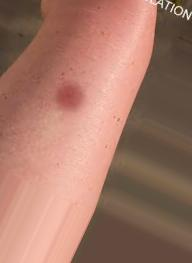Tick: (53, 80, 85, 111)
